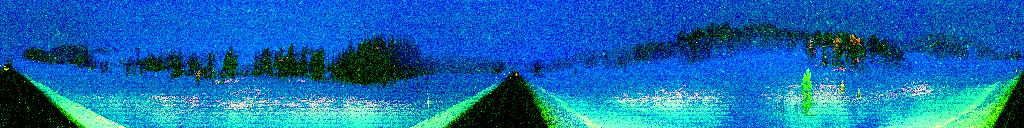pole: (427, 93, 431, 119)
